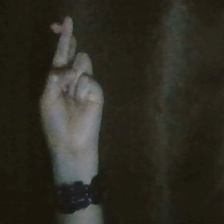R: (33, 10, 115, 163)
